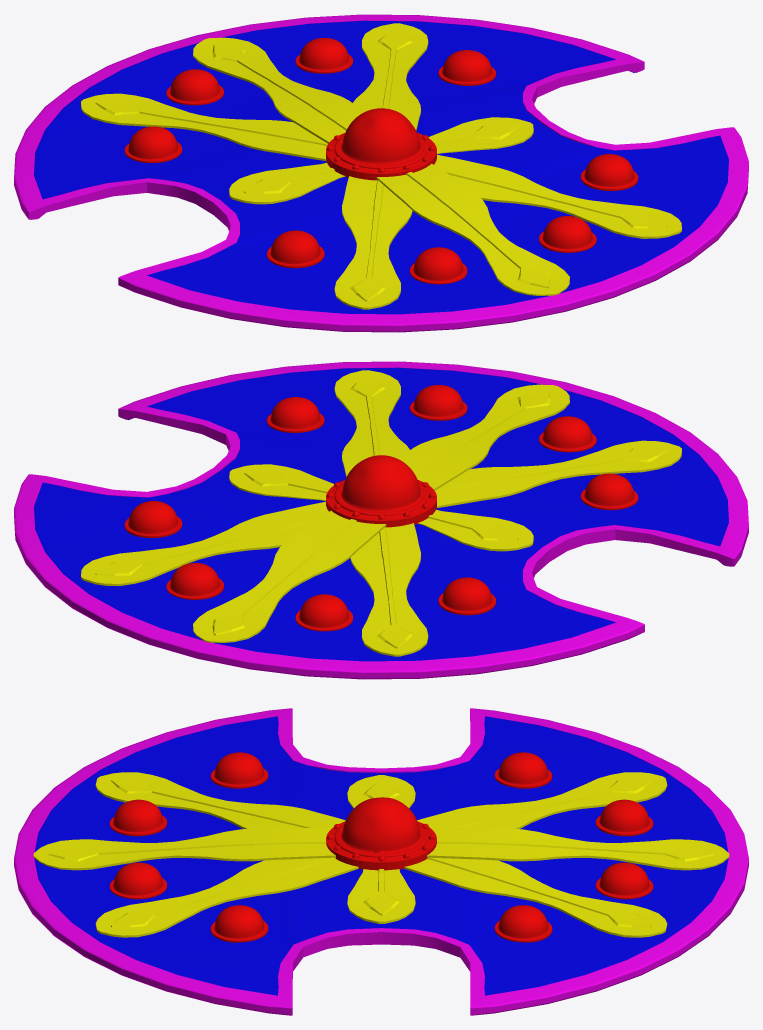
The model's file is Greek_Shiel_ColorID.fbx.
The picture shows the model from 3 angles, top to bottom: view 1: azimuth 30°, elevation 25°; view 2: azimuth 150°, elevation 25°; view 3: azimuth 270°, elevation 25°; orthographic projection.
Parts seen in each view (by area): view 1: Greek_Shield_Substance_Painter_Handles_Handle_Bolts_Mesh; view 2: Greek_Shield_Substance_Painter_Handles_Handle_Bolts_Mesh; view 3: Greek_Shield_Substance_Painter_Handles_Handle_Bolts_Mesh.
Boxes of the visible parts, <box> form: Greek_Shield_Substance_Painter_Handles_Handle_Bolts_Mesh: <box>14,14,748,332</box>; Greek_Shield_Substance_Painter_Handles_Handle_Bolts_Mesh: <box>14,361,748,679</box>; Greek_Shield_Substance_Painter_Handles_Handle_Bolts_Mesh: <box>14,708,748,1015</box>.
Size of the model in its own units: 93.87 by 18.81 by 97.1.
